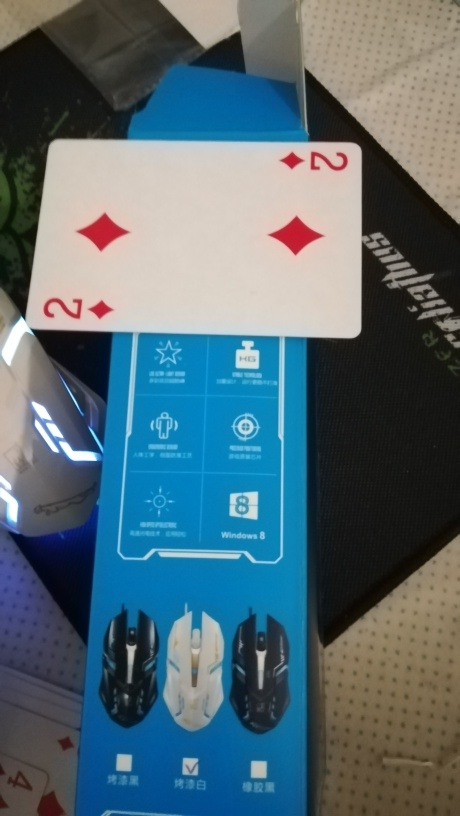fk 2: (19, 135, 364, 340)
